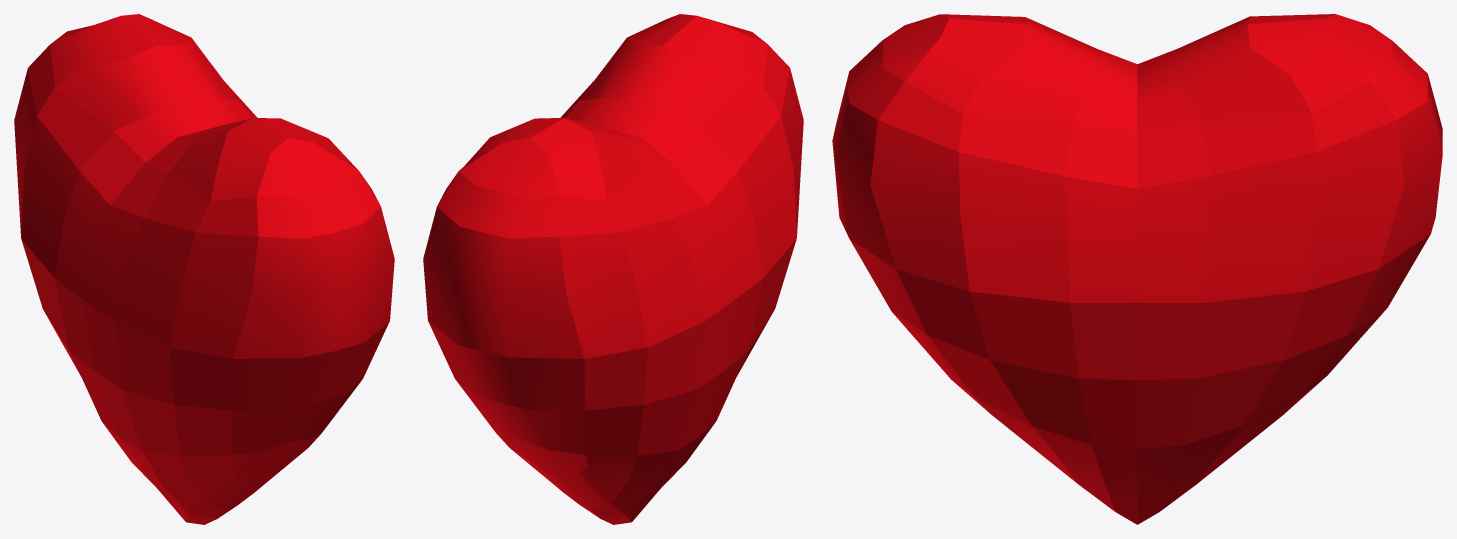
Rendered from heart-point.gltf.
3 views of the same model, side by side, from view 1: azimuth 30°, elevation 25°; view 2: azimuth 150°, elevation 25°; view 3: azimuth 270°, elevation 25° (orthographic). The views are drawn at different scales.
Visible parts, largest first — view 1: heart; view 2: heart; view 3: heart.
Boxes of the visible parts, bbox=[...] form: heart: bbox=[14, 14, 394, 524]; heart: bbox=[423, 14, 803, 524]; heart: bbox=[832, 14, 1442, 524].
Bounding box in the file's own units: 30.79 × 54.53 × 59.8.
